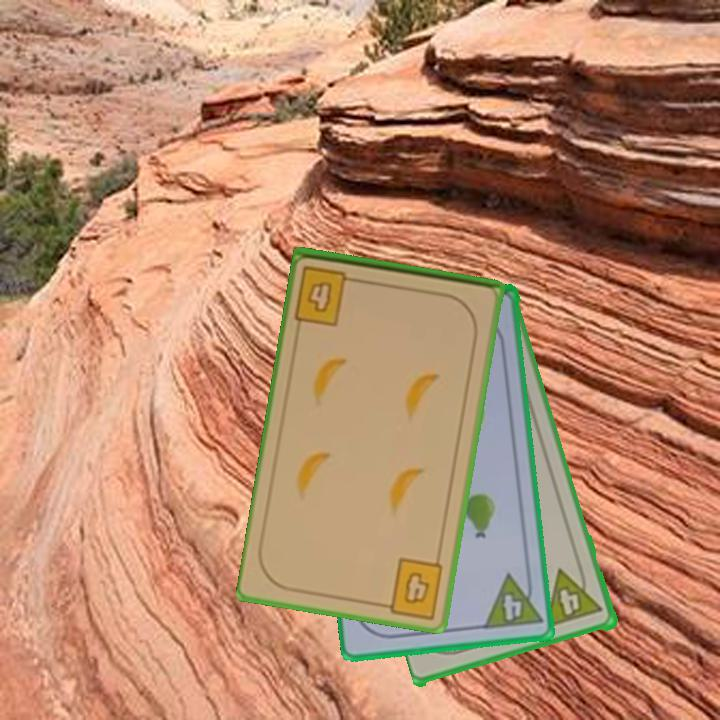4b: (291, 262, 364, 328), (377, 553, 446, 620)
4p: (542, 561, 606, 630), (480, 568, 545, 633)
